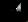person: (12, 3, 21, 17)
